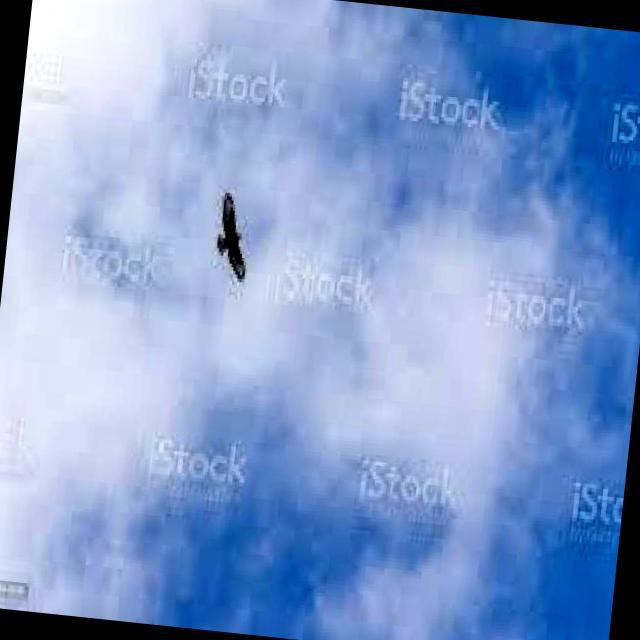bird: (210, 184, 260, 284)
